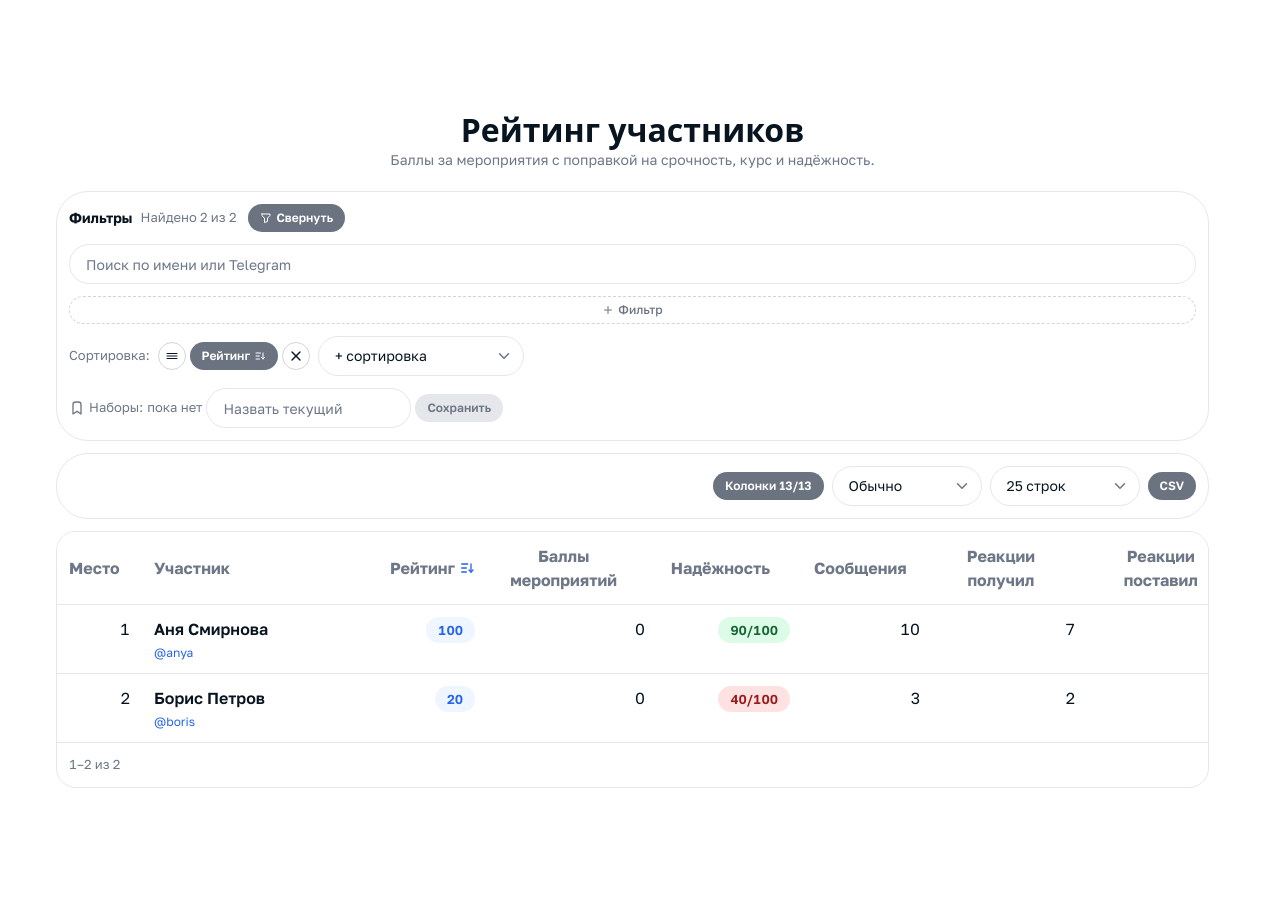
страница рейтинга › не выкладывает фильтры сразу: их добавляют по одному
The image size is (1280, 900).
Click the button "Фильтр" at (632,310), box [69,296,1196,324]
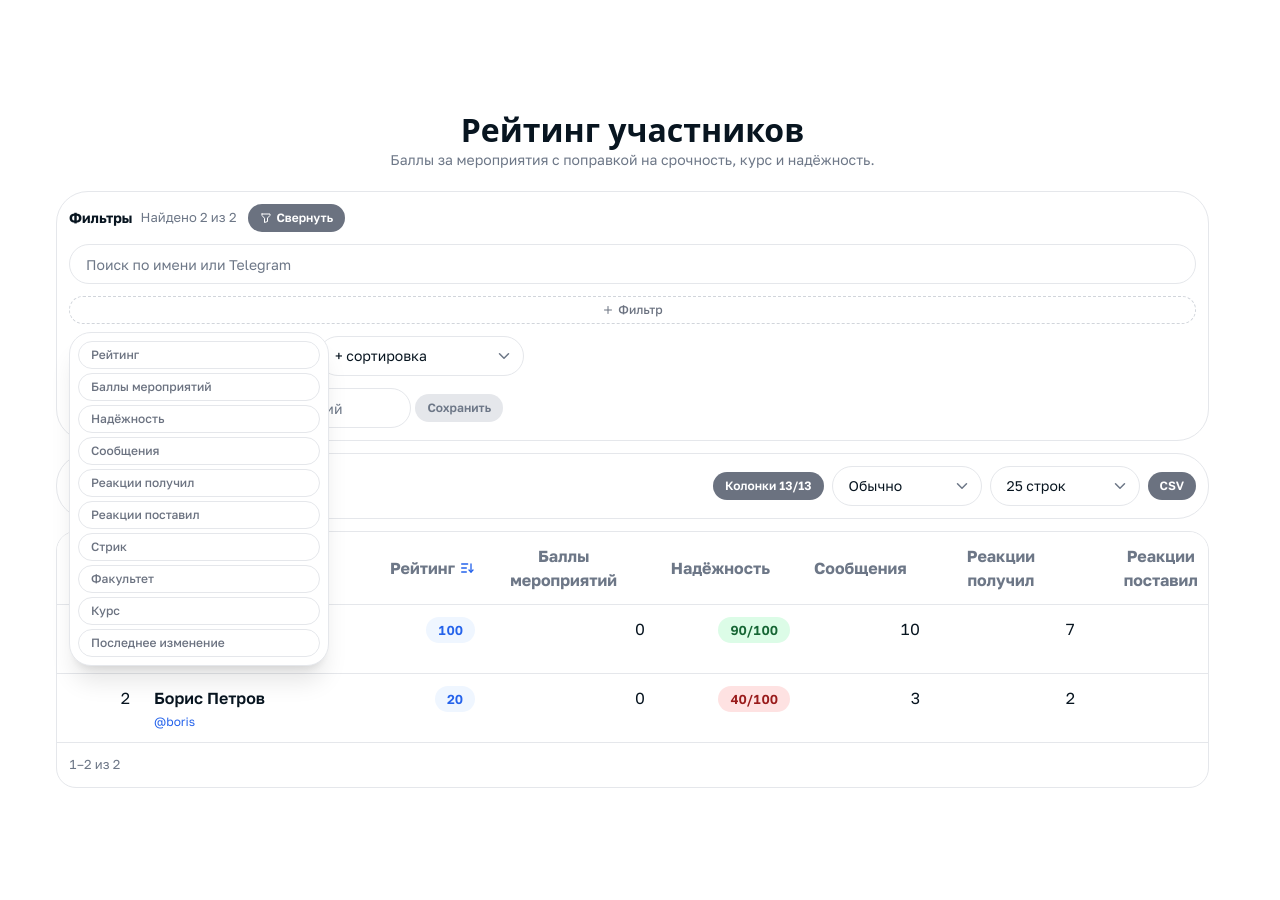
Click the menu item "Рейтинг" at (199,355), box [78,341,320,369]
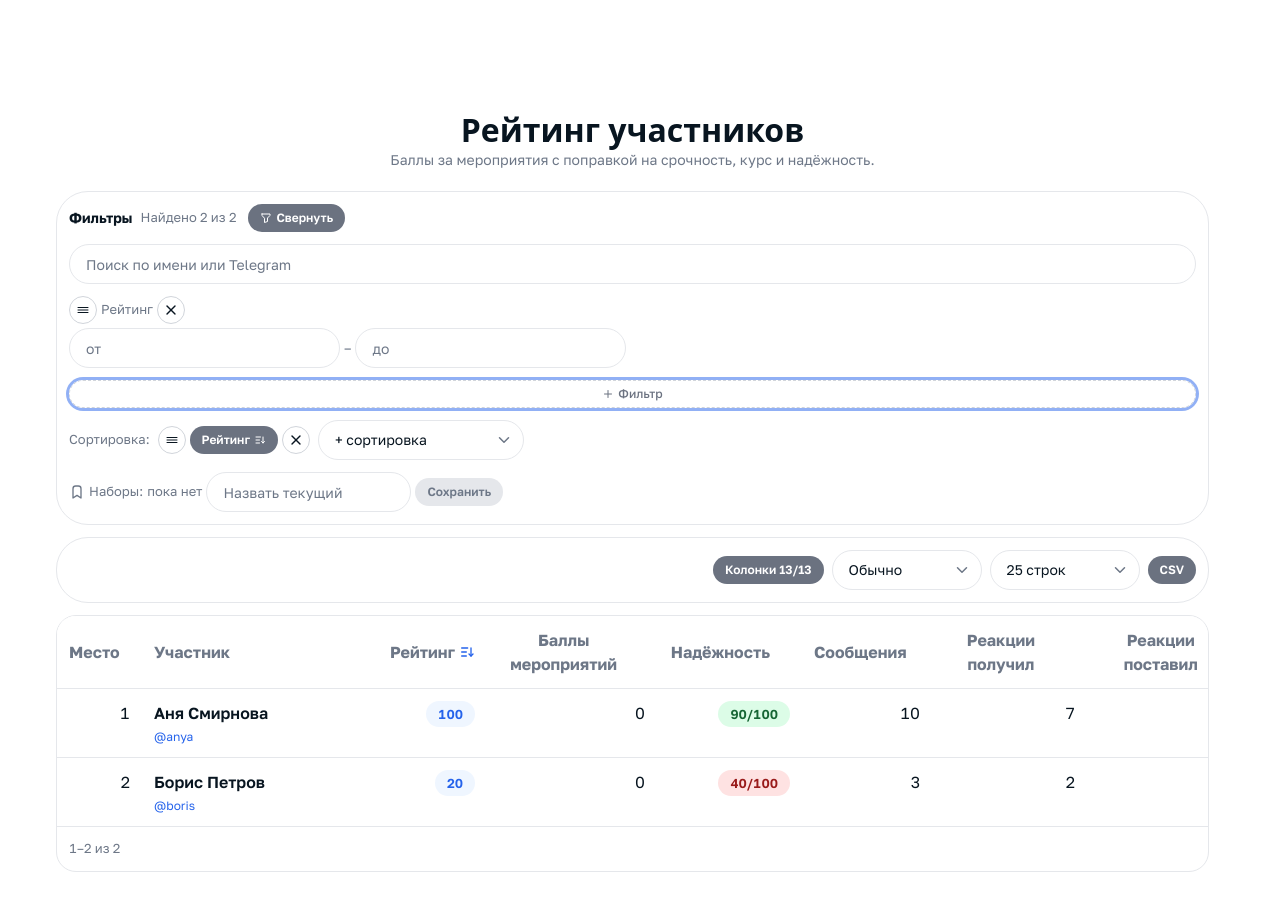
Expected: the text "Найдено 2 из 2" is shown, [140,208,236,228]
Now the number field named "Рейтинг: от" is shown, box [69,328,340,368]
